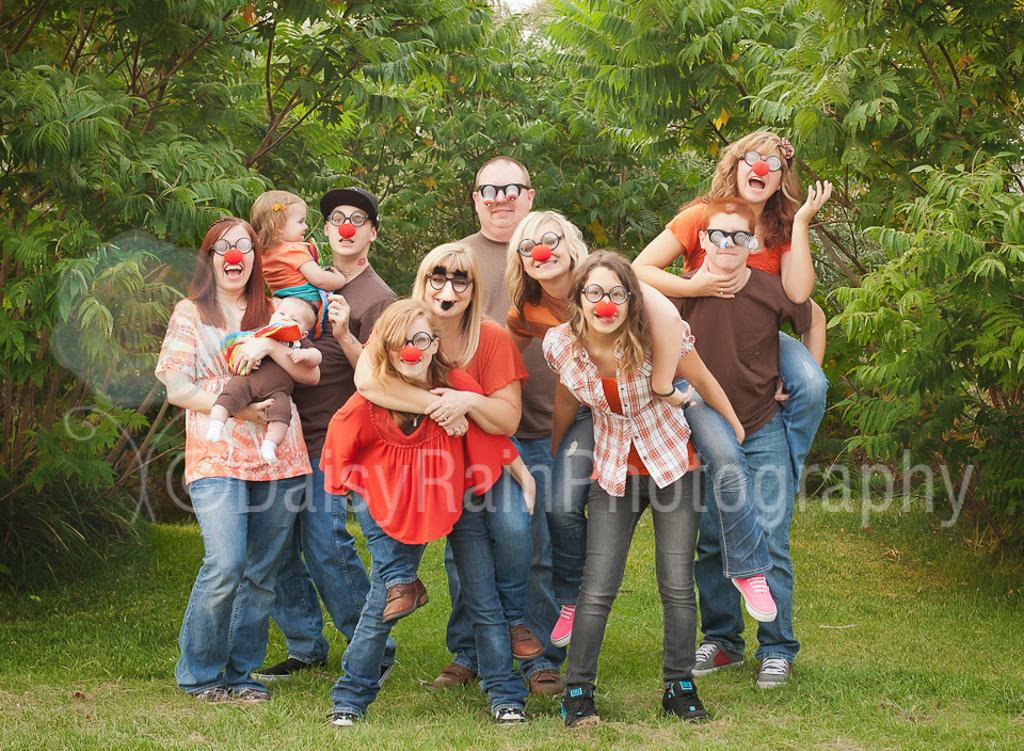face: (582, 275, 630, 334), (476, 175, 529, 228), (520, 227, 571, 279), (212, 231, 254, 290), (425, 266, 473, 317), (388, 324, 432, 376), (707, 219, 751, 270), (329, 205, 372, 255), (739, 151, 781, 201), (271, 307, 306, 336), (284, 206, 308, 243)
